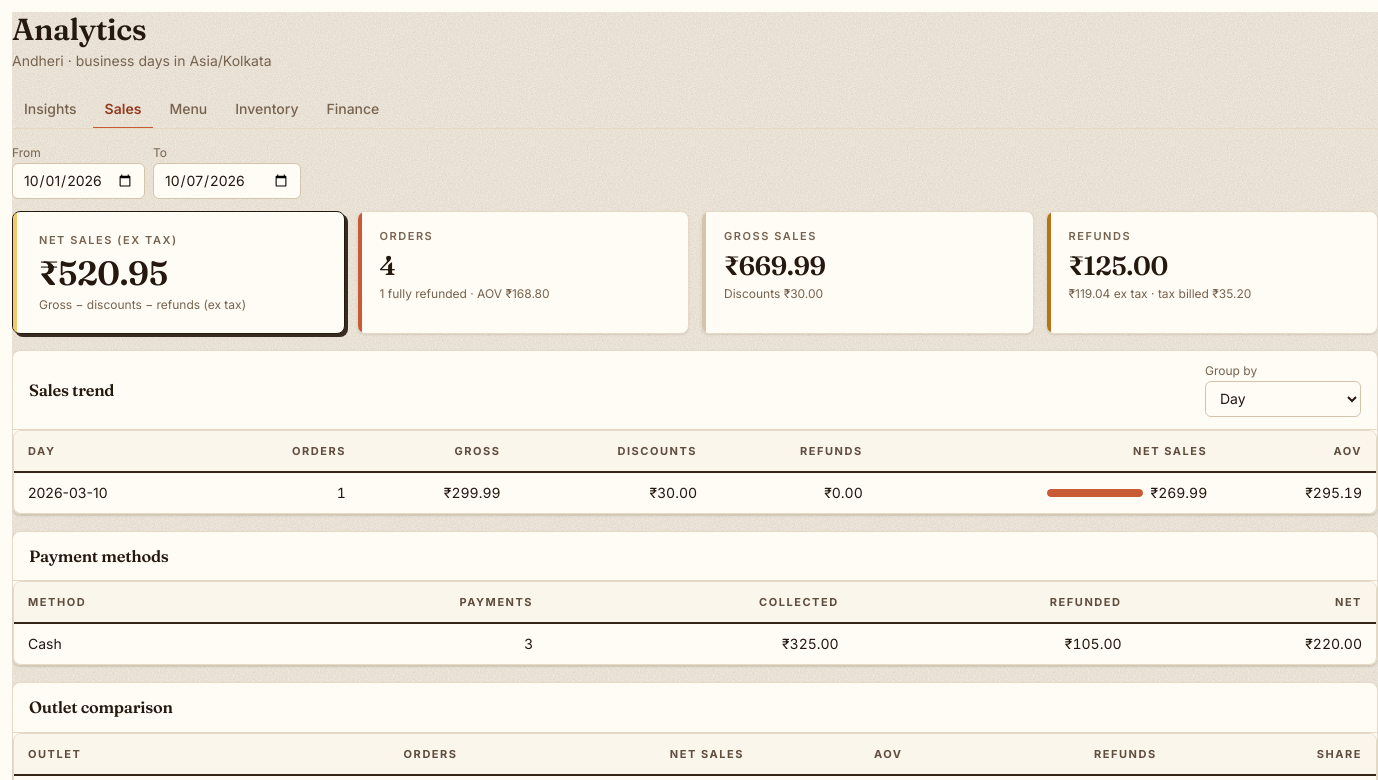
Test case: analytics screen › finance tab labels the P&L as an estimate, not accounting profit
This screenshot has width=1378, height=780.
Click the tab "Finance" at x=353, y=110, box [314,91,391,129]
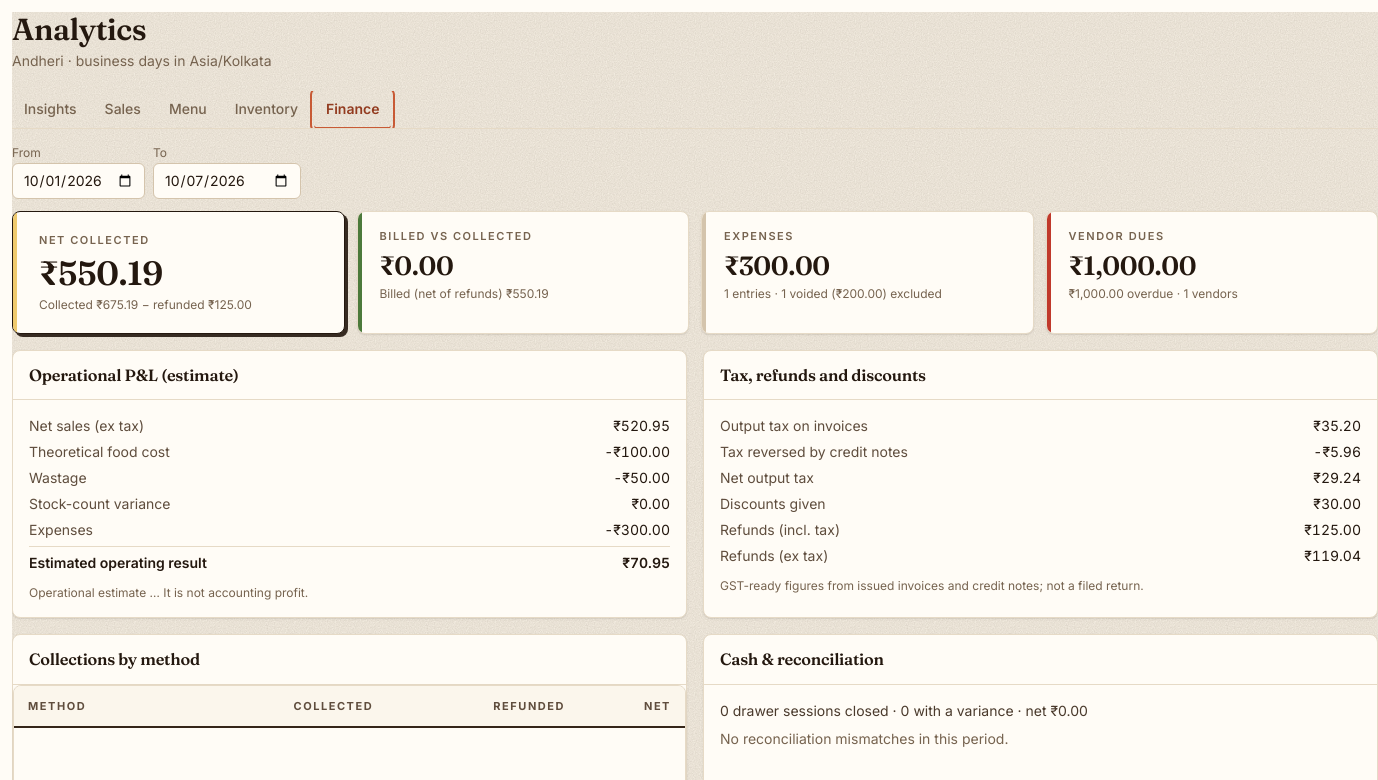
Result: the heading "Operational P&L (estimate)" is shown at [29,363,239,387]
Result: the text "Operational estimate … It is not accounting profit." is shown at [29,585,308,600]
Result: the text "1 entries · 1 voided (₹200.00) excluded" is shown at [724,286,942,302]
